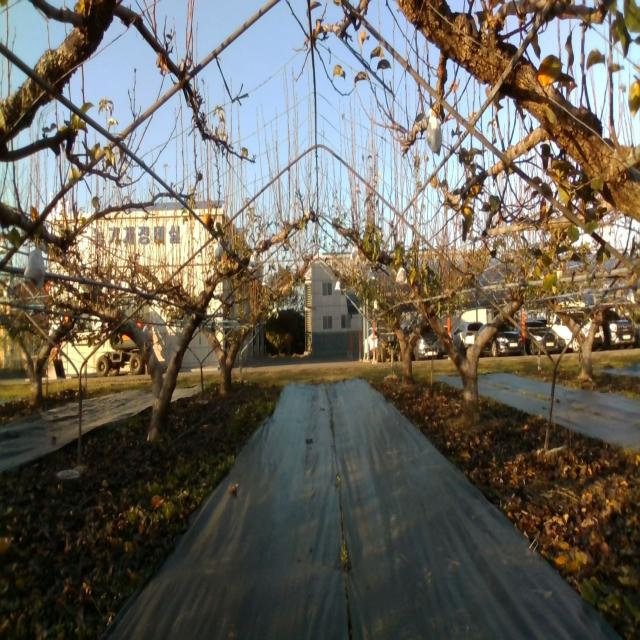pearbags: (24, 242, 46, 290), (426, 108, 443, 157), (214, 237, 224, 261), (396, 268, 407, 286)
